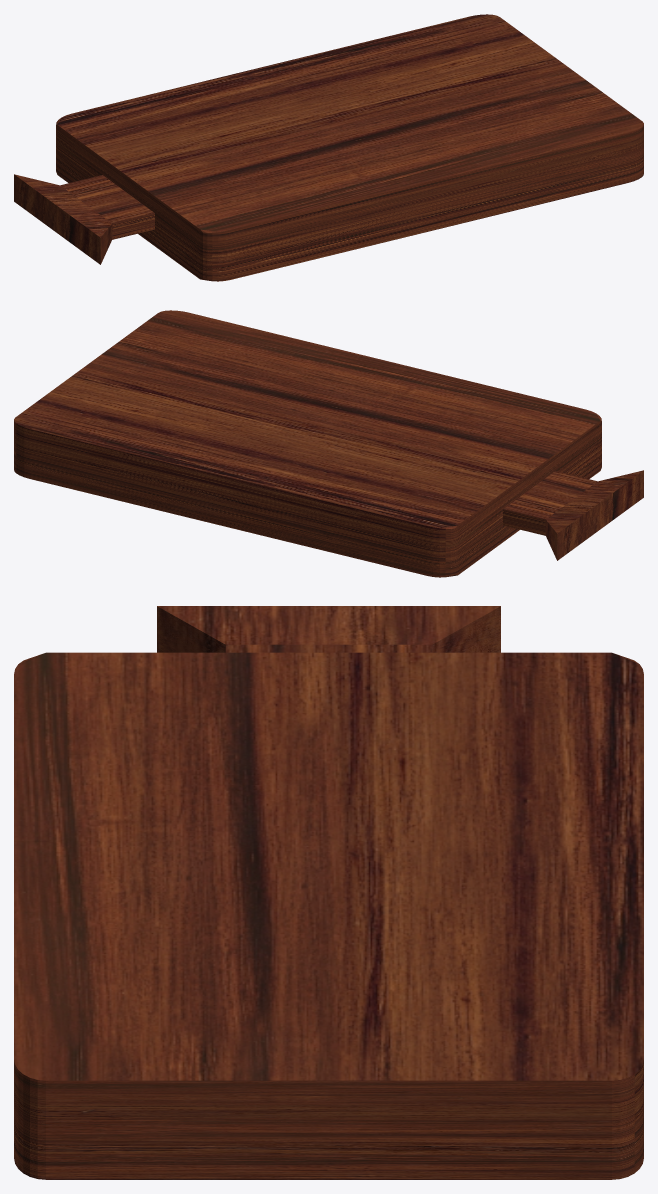
File: Talenan.fbx
3 renders of one model, top to bottom at view 1: azimuth 30°, elevation 25°; view 2: azimuth 150°, elevation 25°; view 3: azimuth 270°, elevation 25°, orthographic. The views are drawn at different scales.
Visible parts, largest first — view 1: Talenan; view 2: Talenan; view 3: Talenan.
Part boxes in pixels (box(x1,y1,x2,y2)): Talenan: box(14, 14, 643, 281); Talenan: box(14, 310, 643, 577); Talenan: box(14, 606, 643, 1179).
Bounding box in the file's own units: 120 × 11.12 × 64.06.
